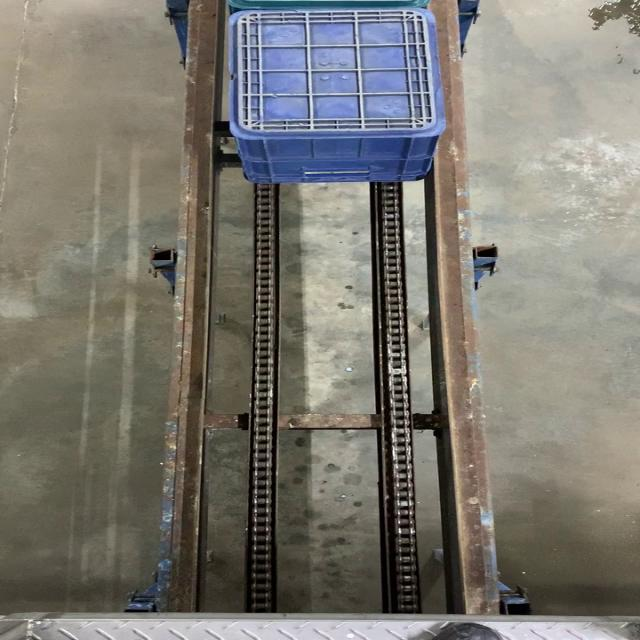Box: (231, 10, 439, 134)
